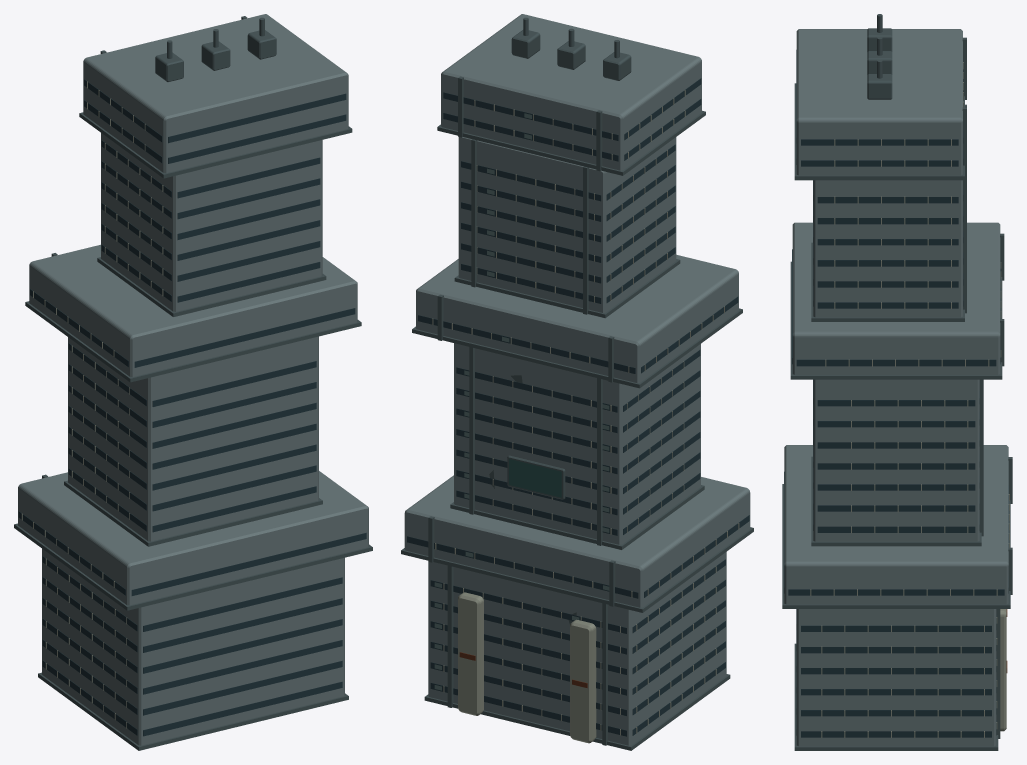
The model's file is megablock_terraced.obj.
3 renders of one model, left to right at view 1: azimuth 30°, elevation 25°; view 2: azimuth 150°, elevation 25°; view 3: azimuth 270°, elevation 25°, orthographic. The views are drawn at different scales.
Parts seen in each view (by area): view 1: structural_mass, recessed_front, recessed_side, tier_lip, rooftop_equipment, window_separators; view 2: structural_mass, recessed_front, recessed_side, tier_lip, vertical_service_spines, podium_buttress, window_separators, rooftop_equipment, runtime_billboard, pale_window; view 3: structural_mass, recessed_side, tier_lip, vertical_service_spines, window_separators, rooftop_equipment, recessed_front, podium_buttress.
Boxes of the visible parts, box(x1,y1,x2,y2) form: structural_mass: box(18, 14, 368, 745); recessed_front: box(131, 93, 366, 736); recessed_side: box(18, 79, 171, 735); tier_lip: box(14, 112, 372, 750); rooftop_equipment: box(155, 30, 276, 81); window_separators: box(21, 81, 163, 728); structural_mass: box(404, 14, 750, 745); recessed_front: box(407, 92, 638, 736); recessed_side: box(606, 78, 749, 735); tier_lip: box(401, 110, 753, 750); vertical_service_spines: box(428, 76, 615, 745); podium_buttress: box(458, 592, 596, 743); window_separators: box(432, 90, 739, 735); rooftop_equipment: box(511, 30, 631, 80); runtime_billboard: box(509, 459, 561, 497); pale_window: box(434, 113, 609, 690); structural_mass: box(784, 29, 1008, 746); recessed_side: box(788, 139, 1004, 737); tier_lip: box(782, 83, 1010, 750); vertical_service_spines: box(962, 37, 1012, 738); window_separators: box(810, 62, 1009, 737); rooftop_equipment: box(867, 28, 892, 99); recessed_front: box(784, 50, 1008, 735); podium_buttress: box(1000, 609, 1006, 731).
Bounding box in the file's own units: 34.5 × 88.7 × 27.74.
